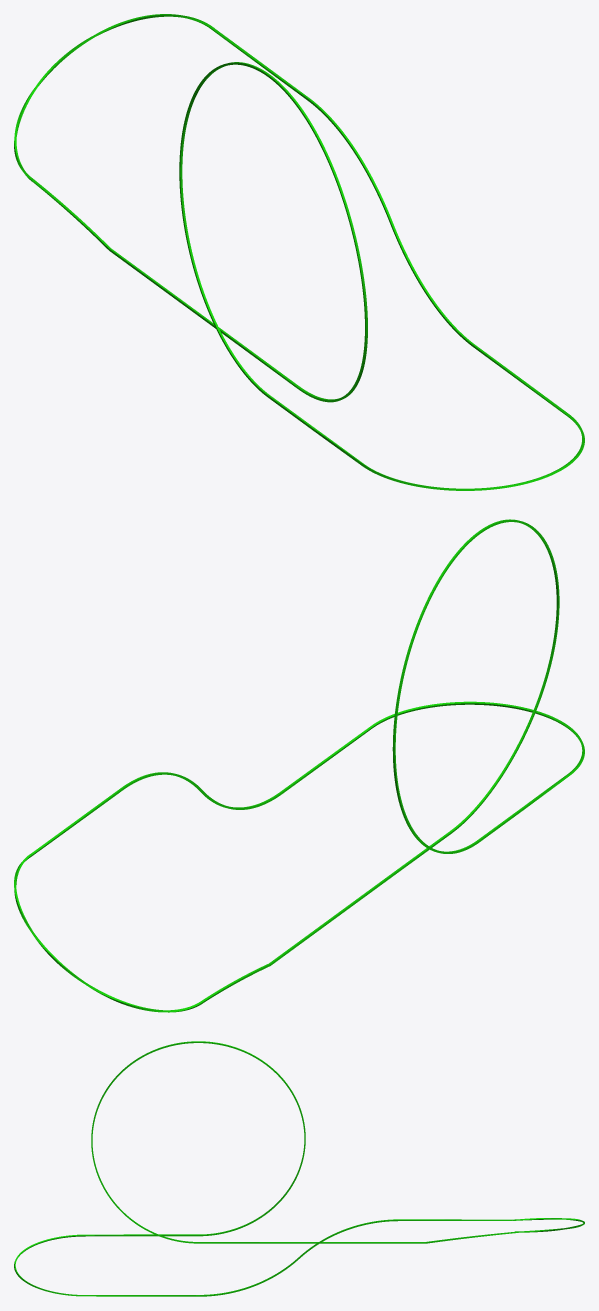
The model's file is pista5.fbx.
3 views of the same model, one above another, from view 1: azimuth 30°, elevation 25°; view 2: azimuth 150°, elevation 25°; view 3: azimuth 270°, elevation 25° (orthographic). The views are drawn at different scales.
Parts seen in each view (by area): view 1: Box002, Box001, Box009, Box008, Box007, Box006, Box010; view 2: Box002, Box001, Box009, Box006, Box008, Box007; view 3: Box002, Box001, Box008, Box007, Box010, Box006.
Part boxes in pixels (x1,y1,x2,y2): Box002: (179,62,269,397); Box001: (268,75,367,402); Box009: (14,14,214,181); Box008: (214,29,392,222); Box007: (390,222,567,415); Box006: (361,413,584,490); Box010: (32,179,187,306); Box002: (392,531,479,853); Box001: (450,519,559,832); Box009: (14,854,203,1012); Box006: (371,701,584,775); Box008: (31,772,202,855); Box007: (201,726,372,809); Box002: (198,1041,305,1236); Box001: (91,1041,198,1243); Box008: (298,1219,511,1258); Box007: (86,1257,299,1296); Box010: (333,1231,517,1243); Box006: (14,1234,85,1296).
Bounding box in the file's own units: 3224 × 4780 × 12707.
